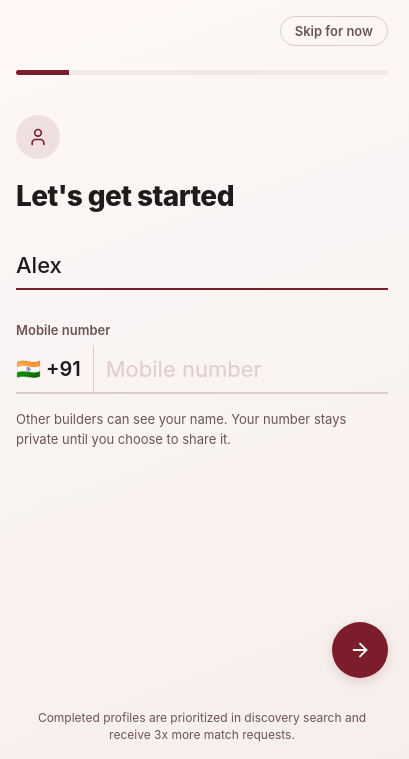
Scenario: ProfileSetupPage Onboarding Wizard › next button advances to step 2
This screenshot has width=409, height=759.
Expected: the heading "Let's get started" is shown, [16, 179, 234, 213]
Click the button named "Next step": (360, 650) [332, 622, 388, 678]
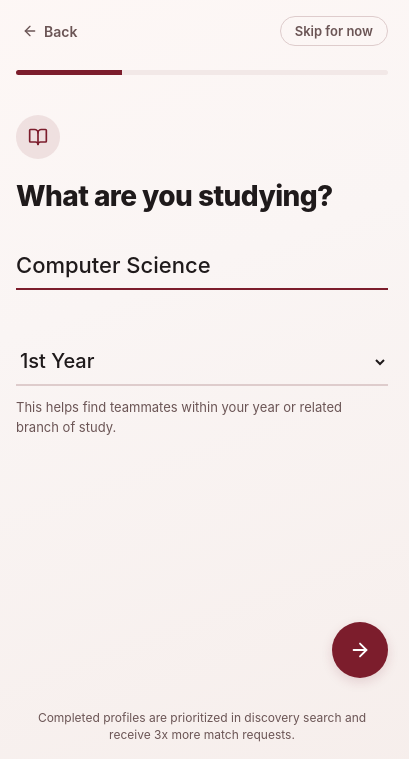
Now the heading "What are you studying?" is shown, box [16, 179, 388, 214]
